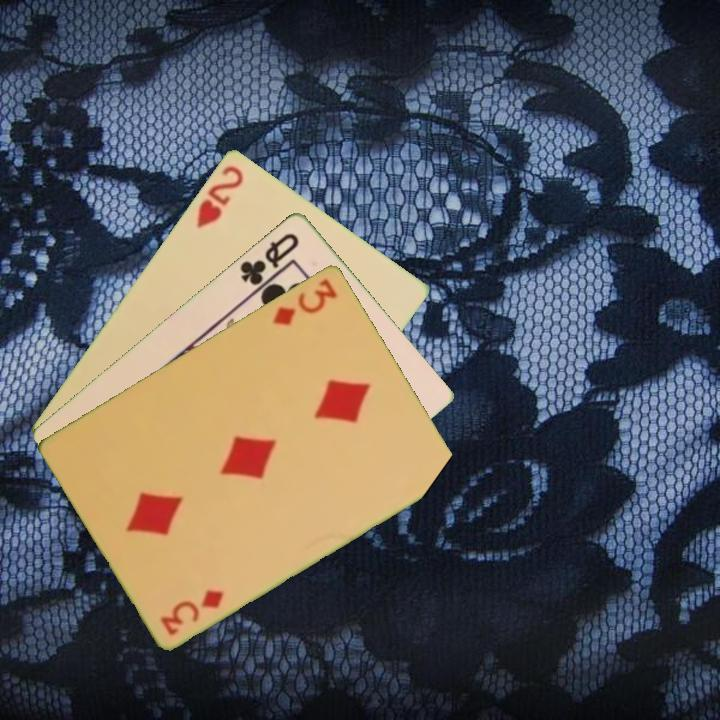2h: (192, 161, 247, 230)
3d: (269, 274, 341, 328), (156, 585, 227, 638)
Qc: (236, 228, 303, 288)
